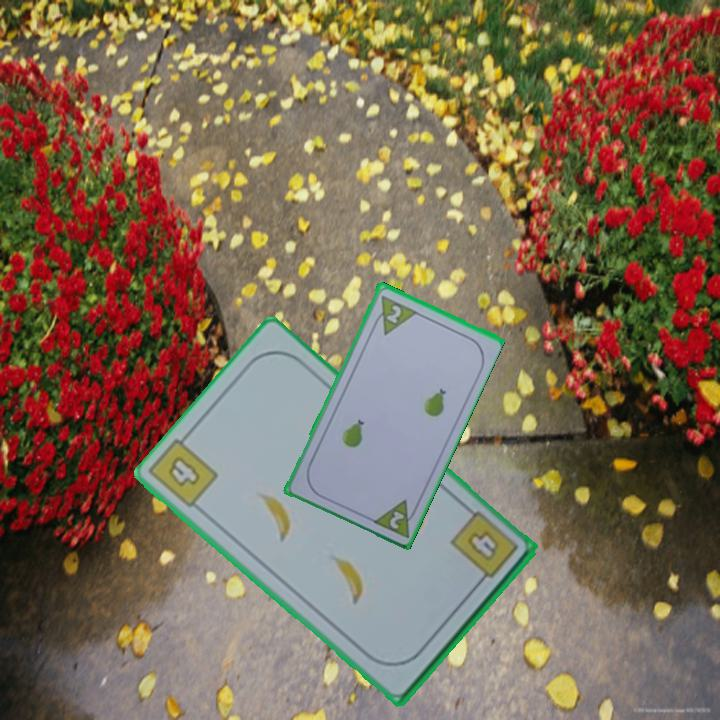2p: (368, 495, 422, 540), (383, 301, 404, 326)
4b: (446, 507, 521, 590), (163, 452, 203, 490)
